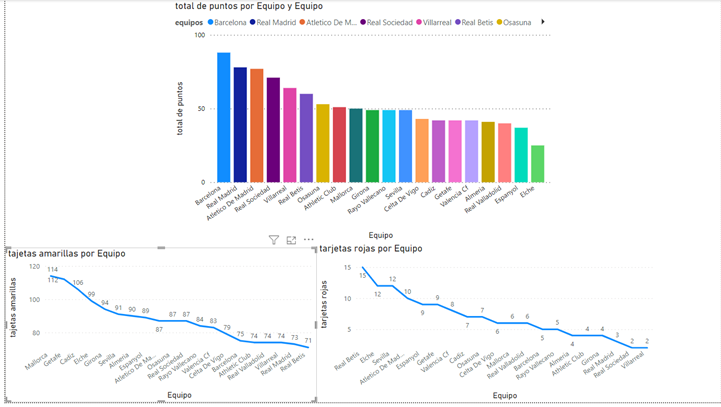

The page's visual inventory and layout, read from the dashboard file:
{"tool":"powerbi","page":{"name":"Página 1","canvas":[1280,720],"ordinal":0},"visuals":[{"type":"columnChart","fields":{"Y":["Max(clasificacion.total_puntos)"],"Category":["clasificacion.Equipo"],"Series":["clasificacion.Equipo"]},"box":[298.8,0,682.6,433.7],"z":0},{"type":"lineChart","fields":{"Category":["jugadores.Equipo"],"Y":["Sum(jugadores.tarjetas_rojas)"]},"box":[556.8,433.3,607.4,286.4],"z":1000},{"type":"lineChart","fields":{"Category":["jugadores.Equipo"],"Y":["Sum(jugadores.tarjetas_amarillas)"]},"box":[0,443.2,556.8,276.5],"z":2000}]}

Visuals, with their boxes in screenshot pixels (x1, y1, x2, y2), scaled from the page's 1280x720 canvas onto the 721x407 screenshot:
columnChart - Max(clasificacion.total_puntos) x clasificacion.Equipo: <box>168,0,553,245</box>
lineChart - jugadores.Equipo x Sum(jugadores.tarjetas_rojas): <box>314,245,656,406</box>
lineChart - jugadores.Equipo x Sum(jugadores.tarjetas_amarillas): <box>0,251,314,406</box>
